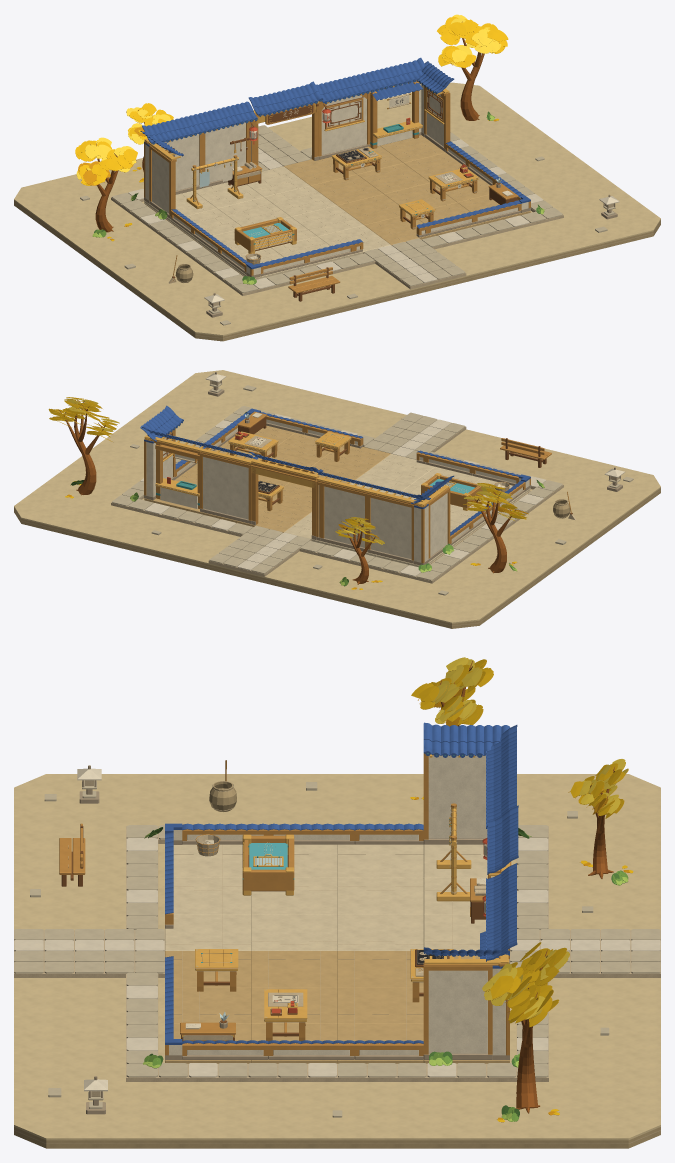
Rendered from 首关_开张第一单_v05_20261111.glb.
3 views of the same model, one above another, from view 1: azimuth 30°, elevation 25°; view 2: azimuth 150°, elevation 25°; view 3: azimuth 270°, elevation 25° (orthographic). The views are drawn at different scales.
Visible parts, largest first — view 1: exterior_ground_paper_layer_3, exterior_path_perimeter_slabs_paving, exterior_ground_paper_layer_0, exterior_path_front_entry_slabs_paving, exterior_ground_paper_layer_2, wall_back_01_paper_panel, env_ginkgo_east__ginkgo_gold, exterior_path_perimeter_slabs_paving_light, wall_back_03_paper_panel, eave_portal_attached_two_courses_blue_paper_tiles, env_floor_courtyard_02_01_slab, exterior_path_perimeter_continuous_paper_underlay (+38 smaller); view 2: exterior_ground_paper_layer_3, exterior_path_perimeter_slabs_paving, wall_back_03_paper_panel, exterior_ground_paper_layer_0, wall_back_00_paper_panel, exterior_path_rear_entry_slabs_paving, exterior_path_front_entry_slabs_paving, wall_back_01_paper_panel, exterior_ground_paper_layer_2, exterior_path_perimeter_slabs_paving_light, exterior_path_perimeter_continuous_paper_underlay, env_floor_courtyard_02_00_slab (+30 smaller); view 3: exterior_ground_paper_layer_3, exterior_path_perimeter_slabs_paving, exterior_path_front_entry_slabs_paving, wall_right_back_paper_panel, wall_left_back_paper_panel, exterior_path_perimeter_slabs_paving_light, exterior_path_rear_entry_slabs_paving, exterior_ground_paper_layer_0, env_floor_courtyard_01_02_slab, env_floor_workshop_03_01_slab, env_floor_courtyard_02_01_slab, env_floor_courtyard_02_02_slab (+44 smaller).
Boxes of the visible parts, box(x1,y1,x2,y2) form: exterior_ground_paper_layer_3: box(14, 82, 660, 336); exterior_path_perimeter_slabs_paving: box(112, 132, 562, 292); exterior_ground_paper_layer_0: box(14, 203, 660, 341); exterior_path_front_entry_slabs_paving: box(364, 238, 465, 286); exterior_ground_paper_layer_2: box(14, 200, 660, 338); wall_back_01_paper_panel: box(205, 122, 245, 182); env_ginkgo_east__ginkgo_gold: box(437, 16, 508, 67); exterior_path_perimeter_slabs_paving_light: box(128, 139, 543, 288); wall_back_03_paper_panel: box(321, 95, 366, 155); eave_portal_attached_two_courses_blue_paper_tiles: box(248, 82, 321, 115); env_floor_courtyard_02_01_slab: box(291, 205, 363, 236); exterior_path_perimeter_continuous_paper_underlay: box(111, 144, 563, 295); exterior_ground_paper_layer_3: box(14, 370, 660, 623); exterior_path_perimeter_slabs_paving: box(112, 406, 562, 580); wall_back_03_paper_panel: box(203, 457, 248, 519); exterior_ground_paper_layer_0: box(14, 490, 660, 628); wall_back_00_paper_panel: box(370, 498, 411, 559); exterior_path_rear_entry_slabs_paving: box(209, 525, 310, 573); exterior_path_front_entry_slabs_paving: box(364, 412, 465, 459); wall_back_01_paper_panel: box(324, 486, 364, 547); exterior_ground_paper_layer_2: box(14, 488, 660, 625); exterior_path_perimeter_slabs_paving_light: box(140, 414, 546, 576); exterior_path_perimeter_continuous_paper_underlay: box(111, 445, 563, 583); env_floor_courtyard_02_00_slab: box(365, 454, 435, 484); exterior_ground_paper_layer_3: box(14, 774, 660, 1140); exterior_path_perimeter_slabs_paving: box(126, 825, 548, 1077); exterior_path_front_entry_slabs_paving: box(14, 929, 164, 973); wall_right_back_paper_panel: box(428, 970, 487, 1053); wall_left_back_paper_panel: box(428, 755, 487, 838); exterior_path_perimeter_slabs_paving_light: box(126, 838, 548, 1077); exterior_path_rear_entry_slabs_paving: box(510, 929, 660, 973); exterior_ground_paper_layer_0: box(14, 1130, 660, 1148); env_floor_courtyard_01_02_slab: box(337, 878, 423, 914); env_floor_workshop_03_01_slab: box(251, 951, 337, 987); env_floor_courtyard_02_01_slab: box(251, 914, 337, 950); env_floor_courtyard_02_02_slab: box(337, 914, 423, 950).
Bounding box in the file's own units: 20 × 4.2 × 15.
Materials: 26 (23 with a texture image).
